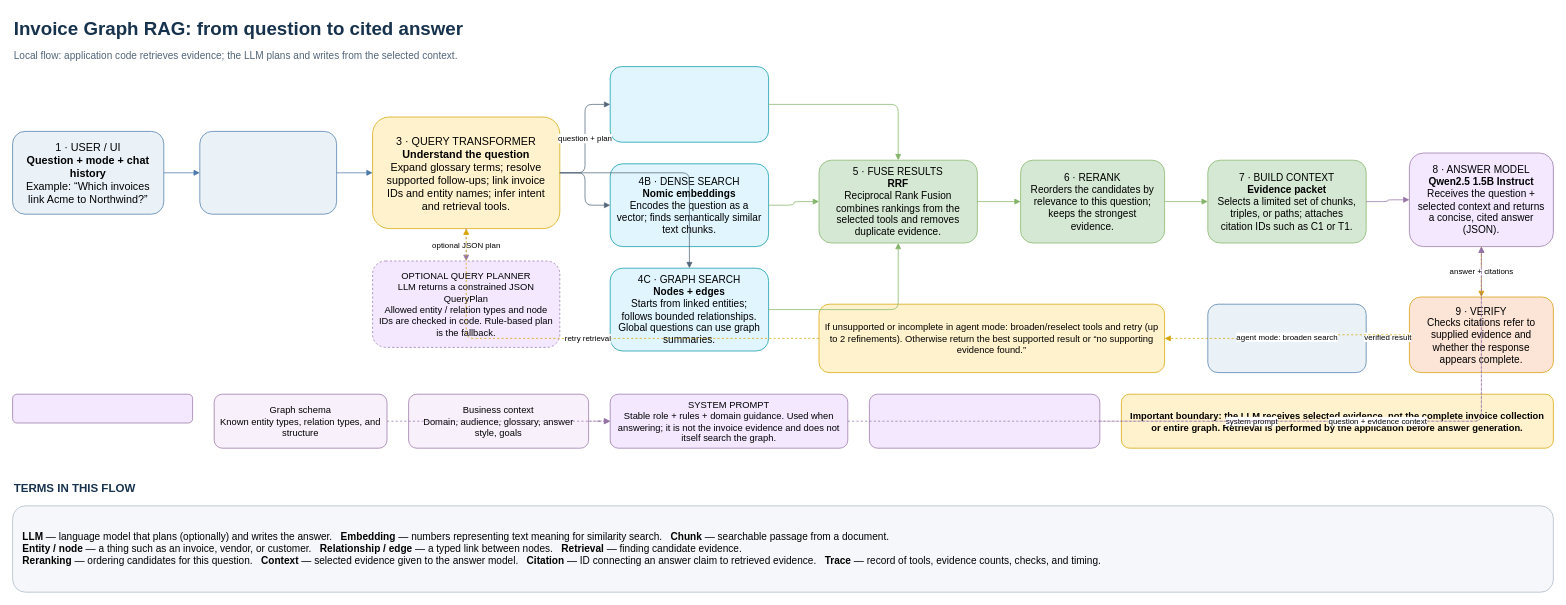
The diagram is 1566 pixels wide and 605 high, and some of its shapes have lost their labels. Here are the shapes that lost their labels. From the top down, the box of each, then its label:
(609, 66, 769, 142): 4A · KEYWORD SEARCH BM25 Ranks exact words, invoice numbers, names, and terms.
(199, 131, 337, 214): 2 · API POST /ask Validates request and invokes the agent
(1207, 303, 1366, 373): 10 · RESPONSE Answer + citations + evidence + trace Returned to the UI / caller.
(12, 393, 193, 423): PROMPT INPUTS (setup + per request)
(869, 393, 1100, 448): PER-REQUEST INPUT Current/standalone question + retrieved context + citation IDs
